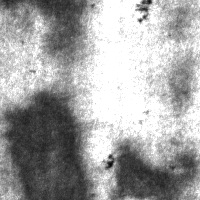patches: (7, 91, 89, 200), (113, 141, 195, 199), (25, 1, 84, 54)
